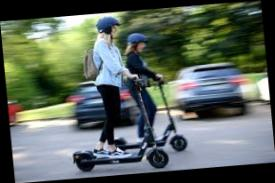helmet: (59, 12, 171, 175), (99, 30, 190, 157)
